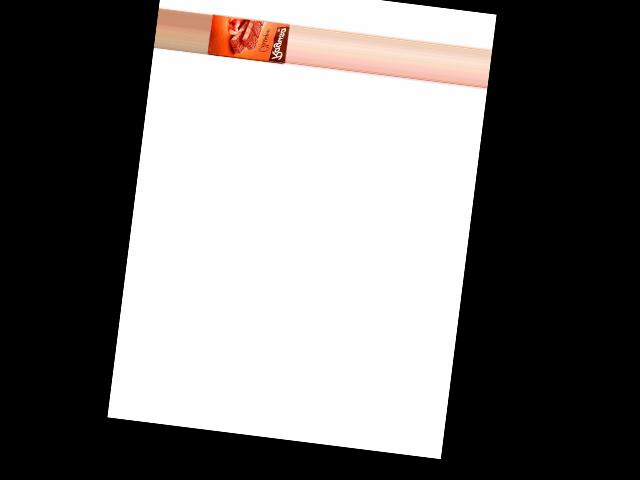chocolate: (206, 9, 289, 66)
